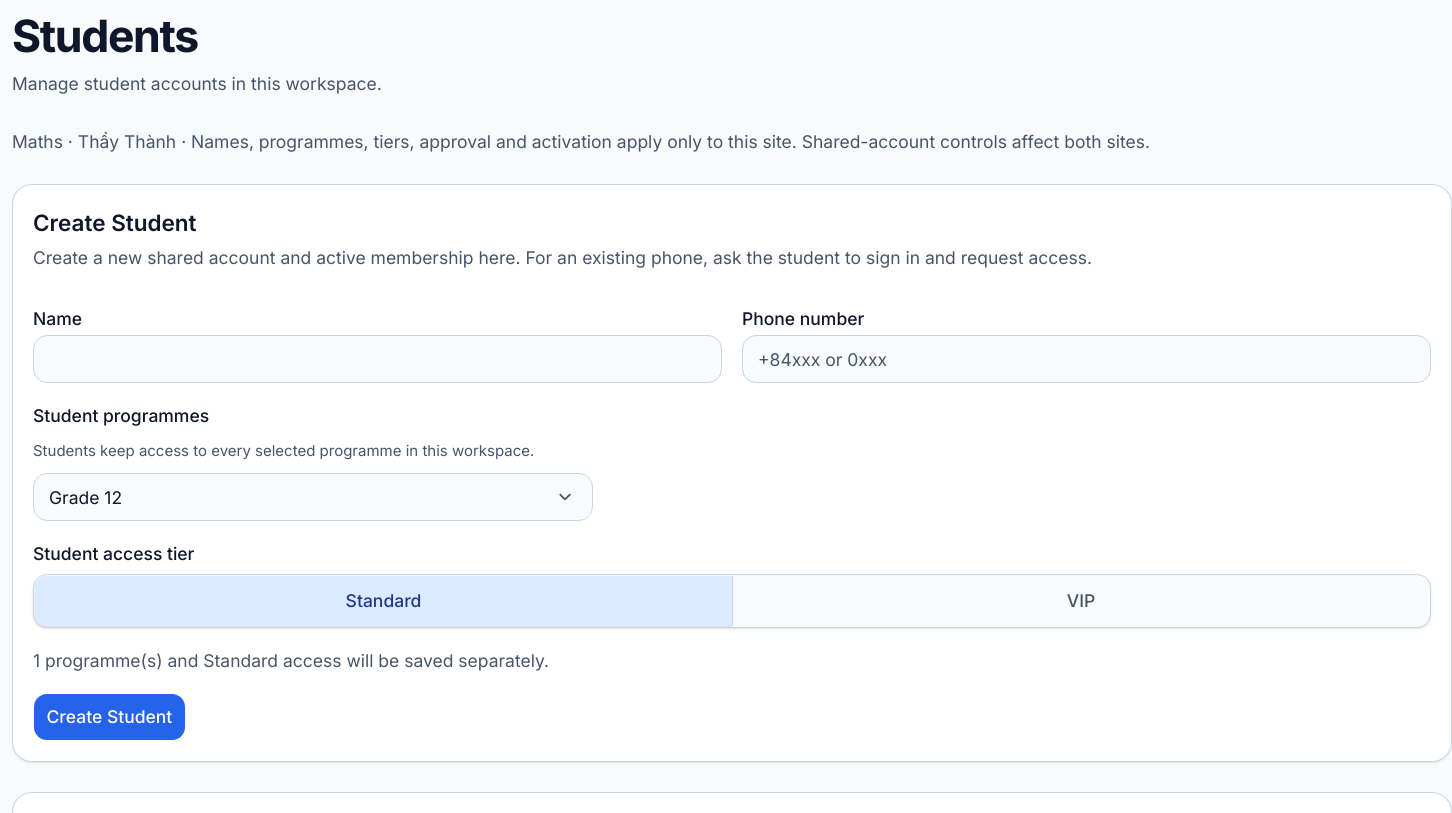
it: TeacherStudentsPage › shows error on duplicate phone
Type "Nguyễn Văn An" into the field labelled "Name". click: point(378, 359)
box: [33,335,722,383]
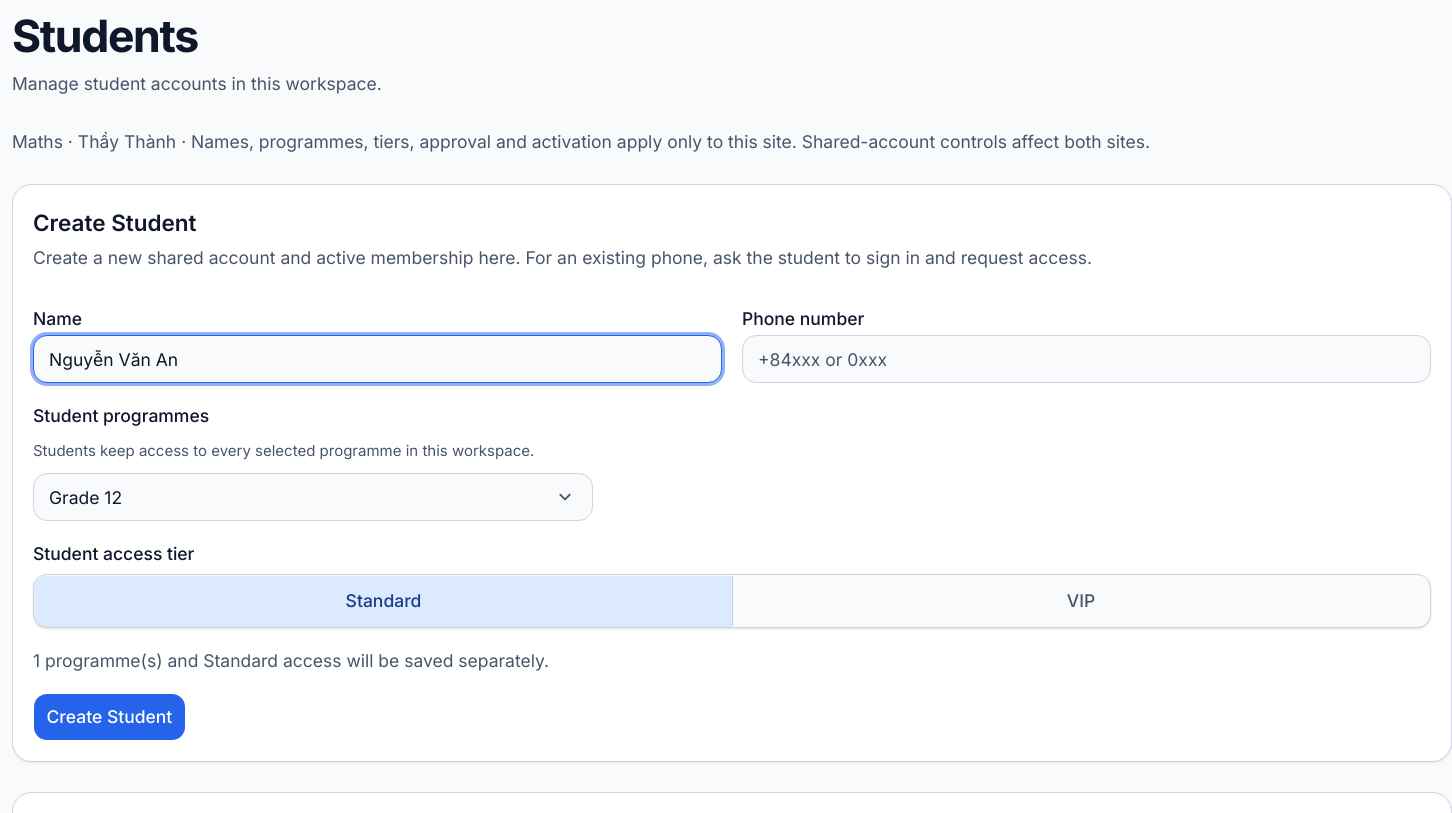
Type "+84865481769" into the field with placeholder "+84xxx or 0xxx". click: point(1086, 359)
box: [742,335,1431,383]
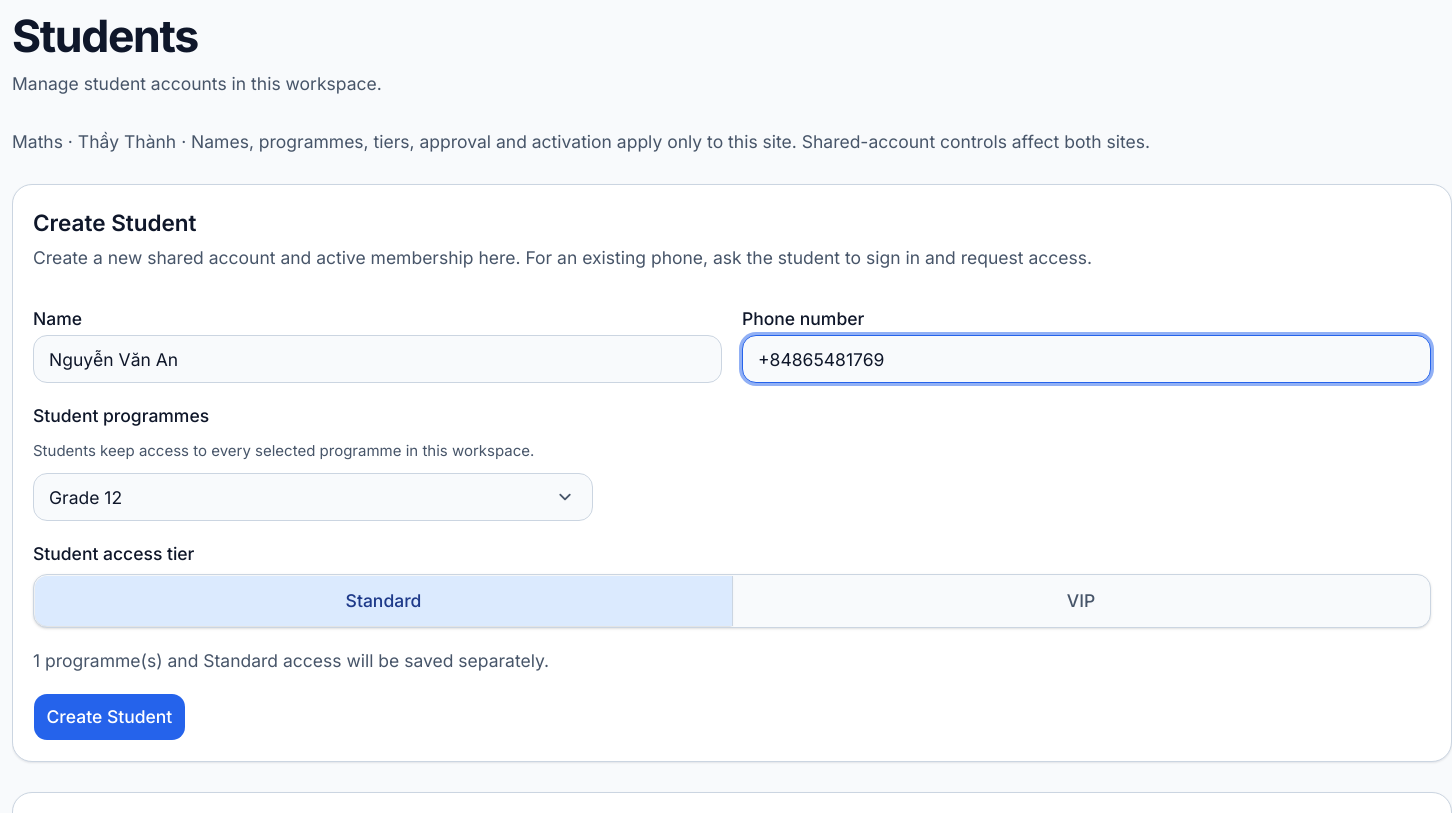
Click the button "Create Student". click: point(109, 717)
box: [33,693,186,741]
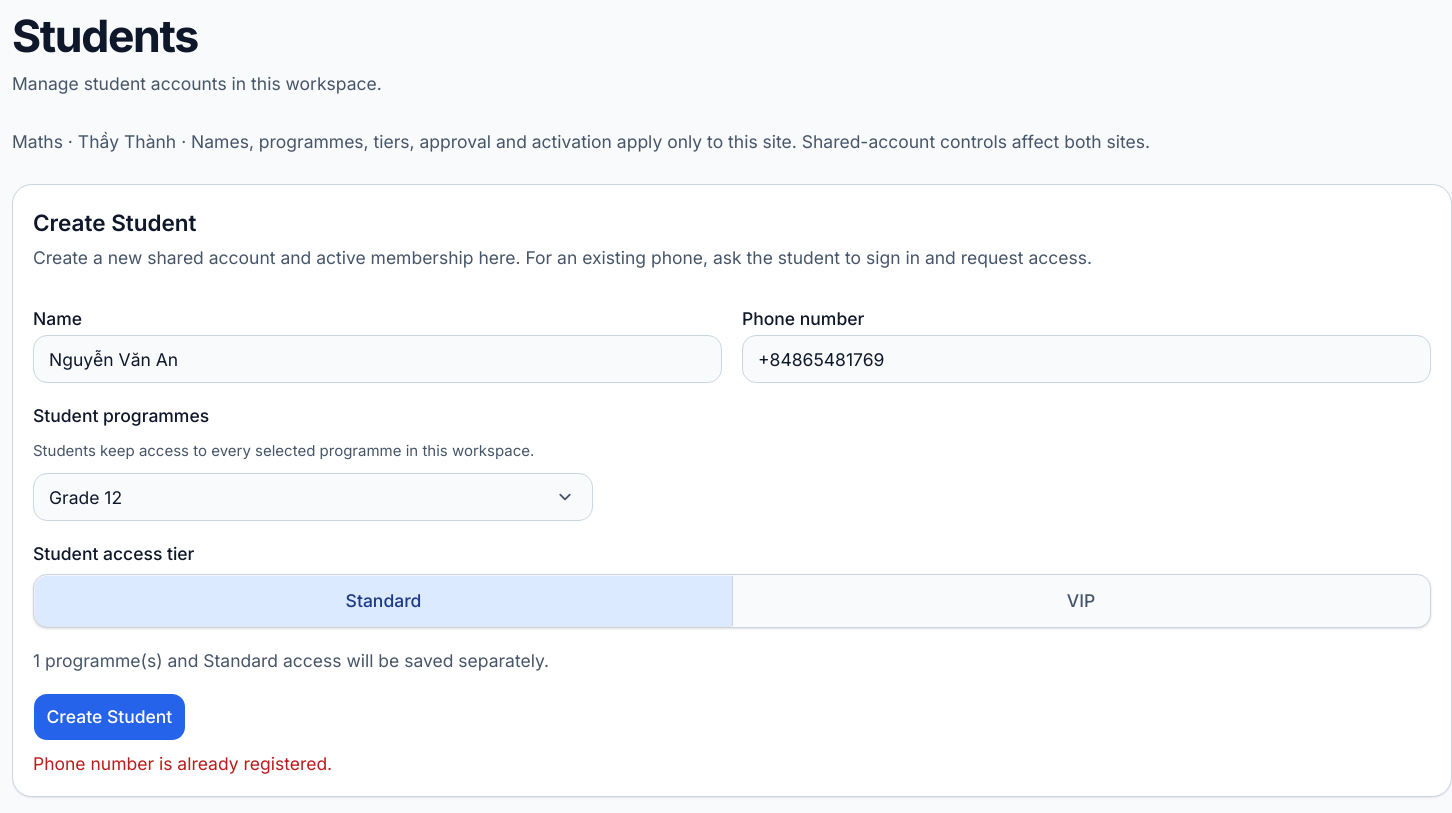
expect the text "Phone number is already registered." is shown: met, box [33,753,332,774]
